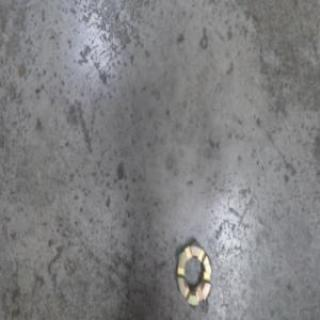Nuttrack_idkeyframe: (175, 236, 212, 308)
